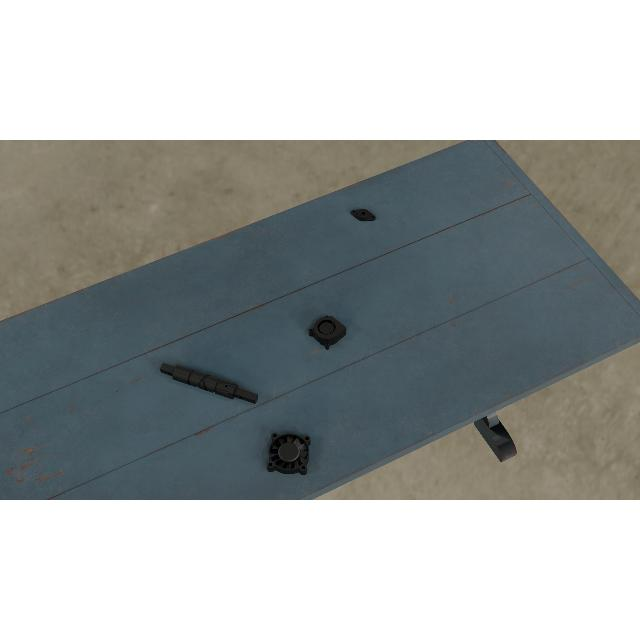Pieza1: (158, 358, 260, 410)
Pieza2: (348, 206, 378, 224)
Pieza3: (308, 313, 347, 352)
Pieza4: (266, 432, 312, 476)
